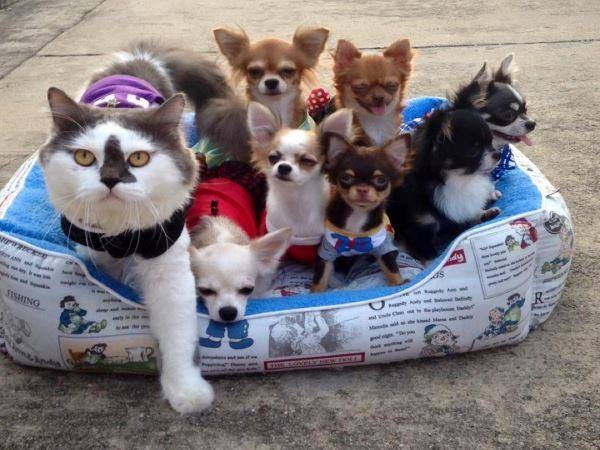cat: (39, 33, 204, 413)
